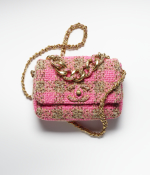channel: (28, 51, 128, 124), (49, 54, 104, 82), (67, 85, 91, 107)
